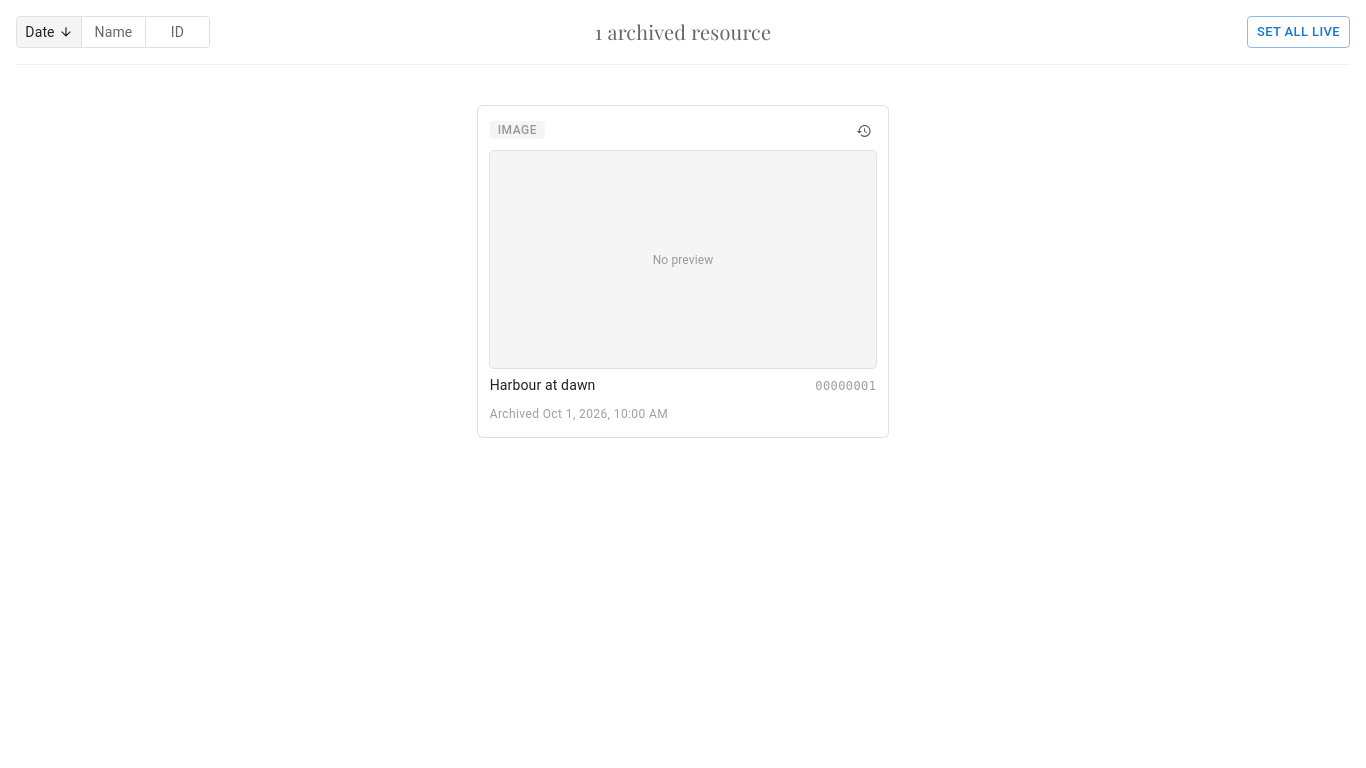
it: ArchivedPage › keeps a skipped resource listed
This screenshot has width=1366, height=768.
Click the button named "Set live".
click(864, 131)  # box [852, 119, 876, 143]
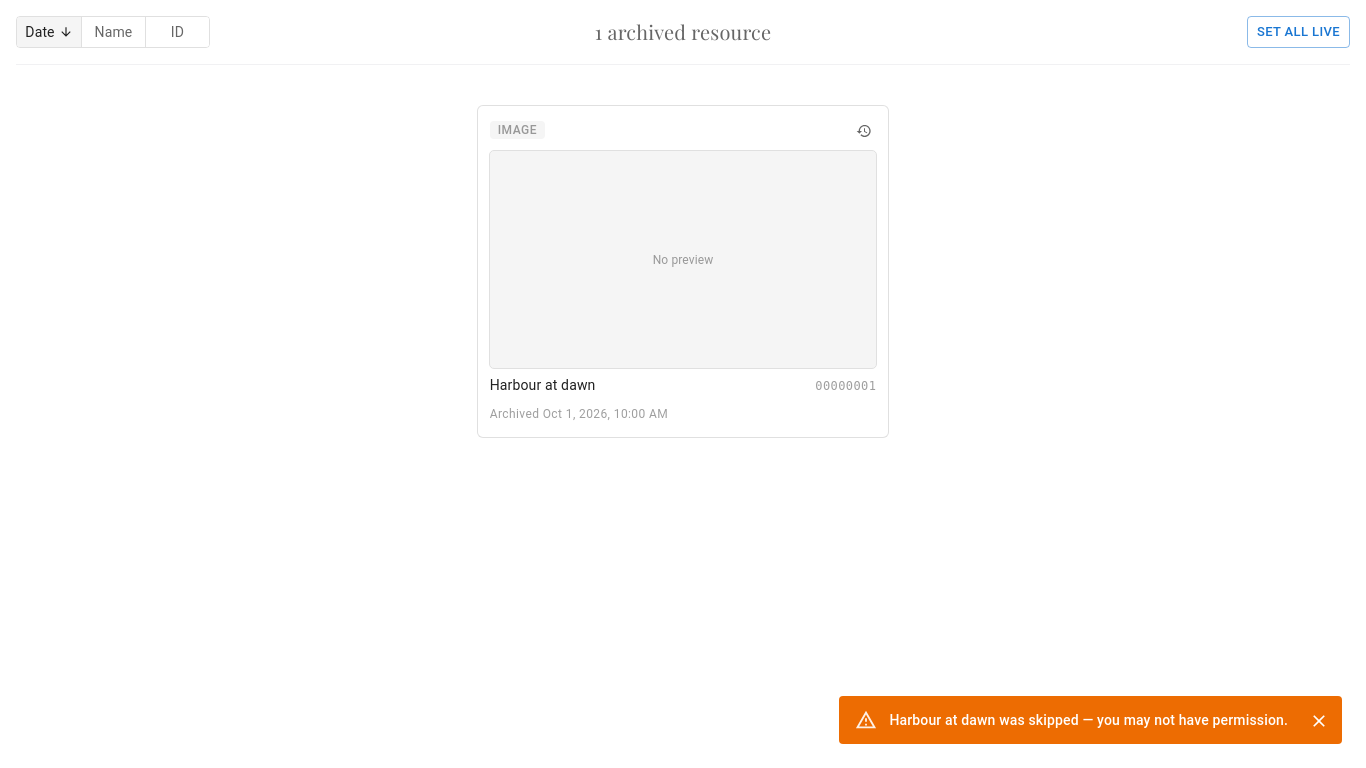
Check: the text "Harbour at dawn" is shown, box [490, 377, 596, 393]
Check: the text "Harbour at dawn was skipped — you may not have permission." is shown, box [889, 712, 1288, 728]
